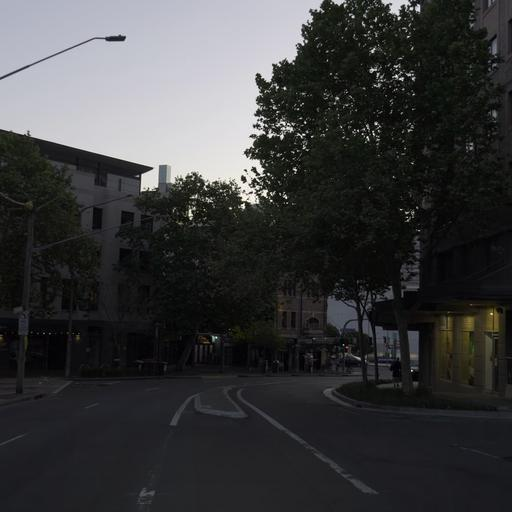Street light: (0, 32, 127, 393), (14, 191, 134, 394), (0, 32, 126, 83)
